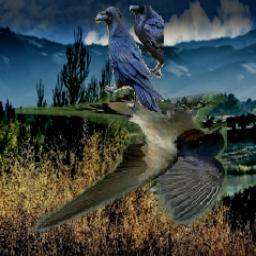Crow: (95, 5, 164, 113)
Swallow: (15, 79, 227, 233)
